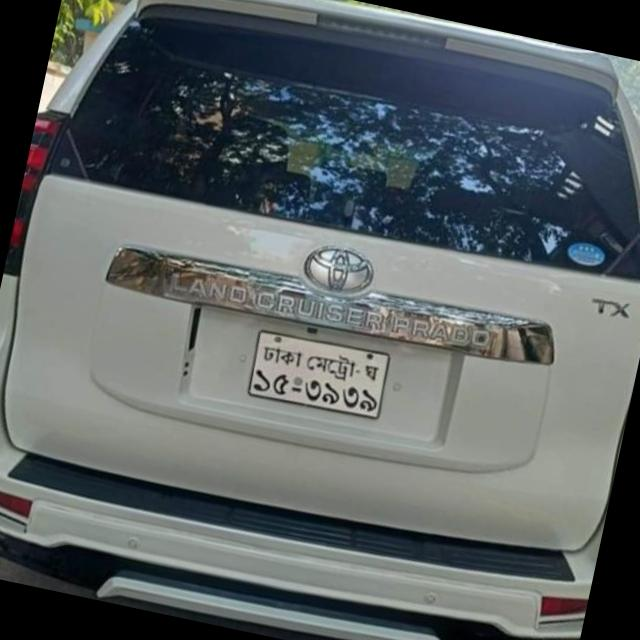Number-Plate: (242, 324, 396, 422)
